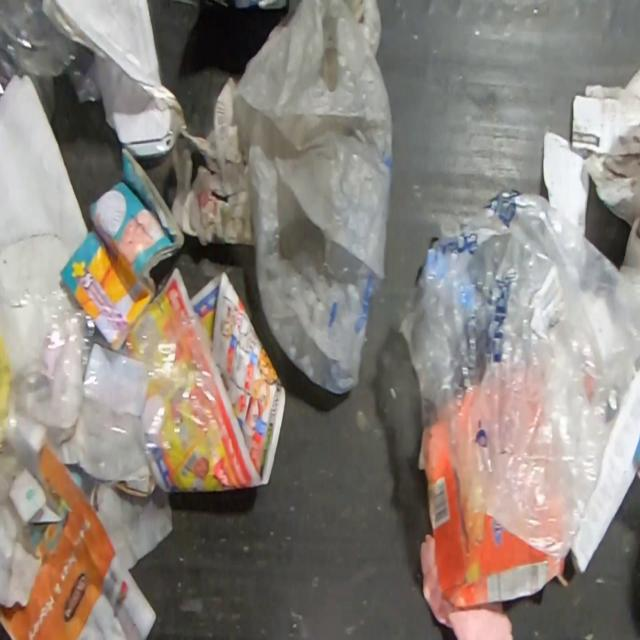cardboard: (56, 145, 187, 351), (426, 464, 570, 609), (0, 235, 69, 310)
soft_plastic: (396, 185, 640, 559), (230, 0, 395, 398), (0, 285, 230, 495)
